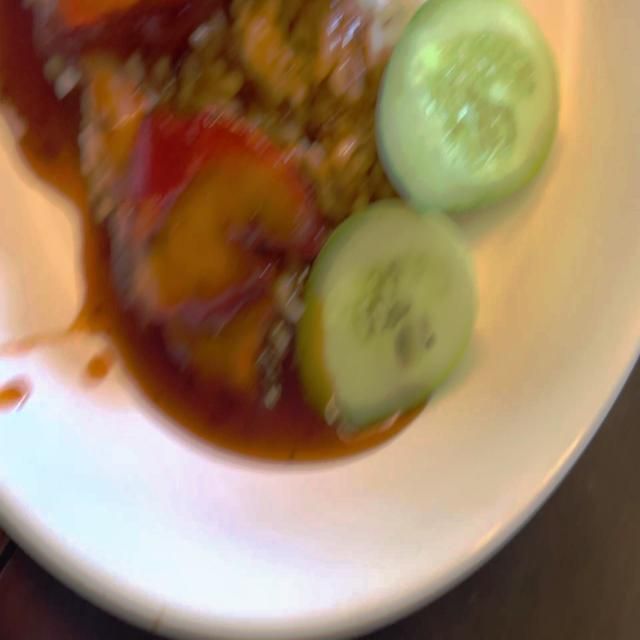cucumber: (369, 1, 558, 206), (301, 204, 475, 423)
red_pork: (95, 99, 300, 374)
red_pork_and_crispy_pork: (30, 0, 555, 425)
